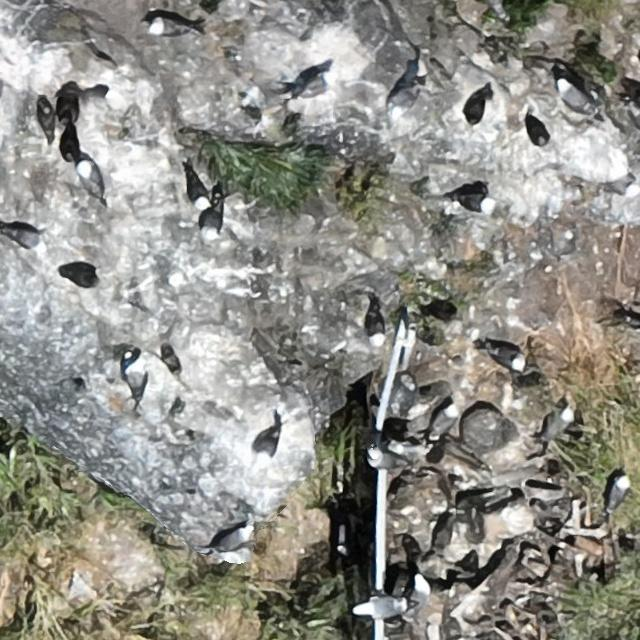umineko: (290, 73, 332, 100), (595, 178, 640, 200), (356, 598, 402, 619), (78, 160, 102, 194), (431, 405, 456, 436), (63, 266, 101, 286), (215, 530, 249, 552), (490, 346, 525, 367), (200, 203, 220, 239), (190, 173, 209, 210), (125, 359, 144, 396), (454, 193, 492, 211), (560, 82, 584, 110), (370, 451, 404, 470), (9, 228, 41, 248), (257, 431, 277, 461), (609, 476, 628, 506), (527, 118, 547, 146), (152, 19, 183, 35), (553, 407, 571, 434), (369, 312, 383, 344), (414, 577, 429, 605)
